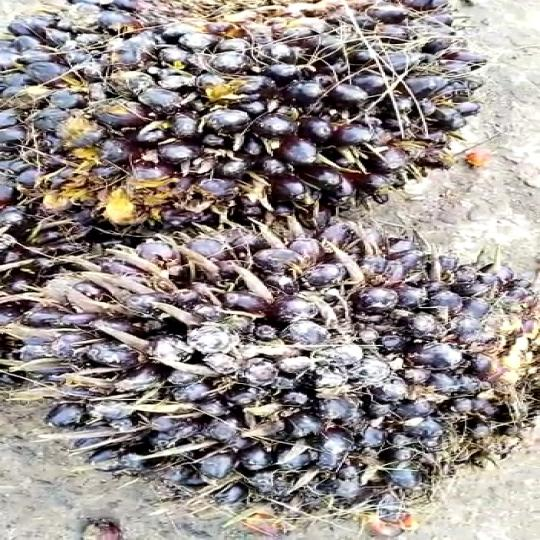mentah: (17, 207, 540, 513), (0, 0, 477, 233)
